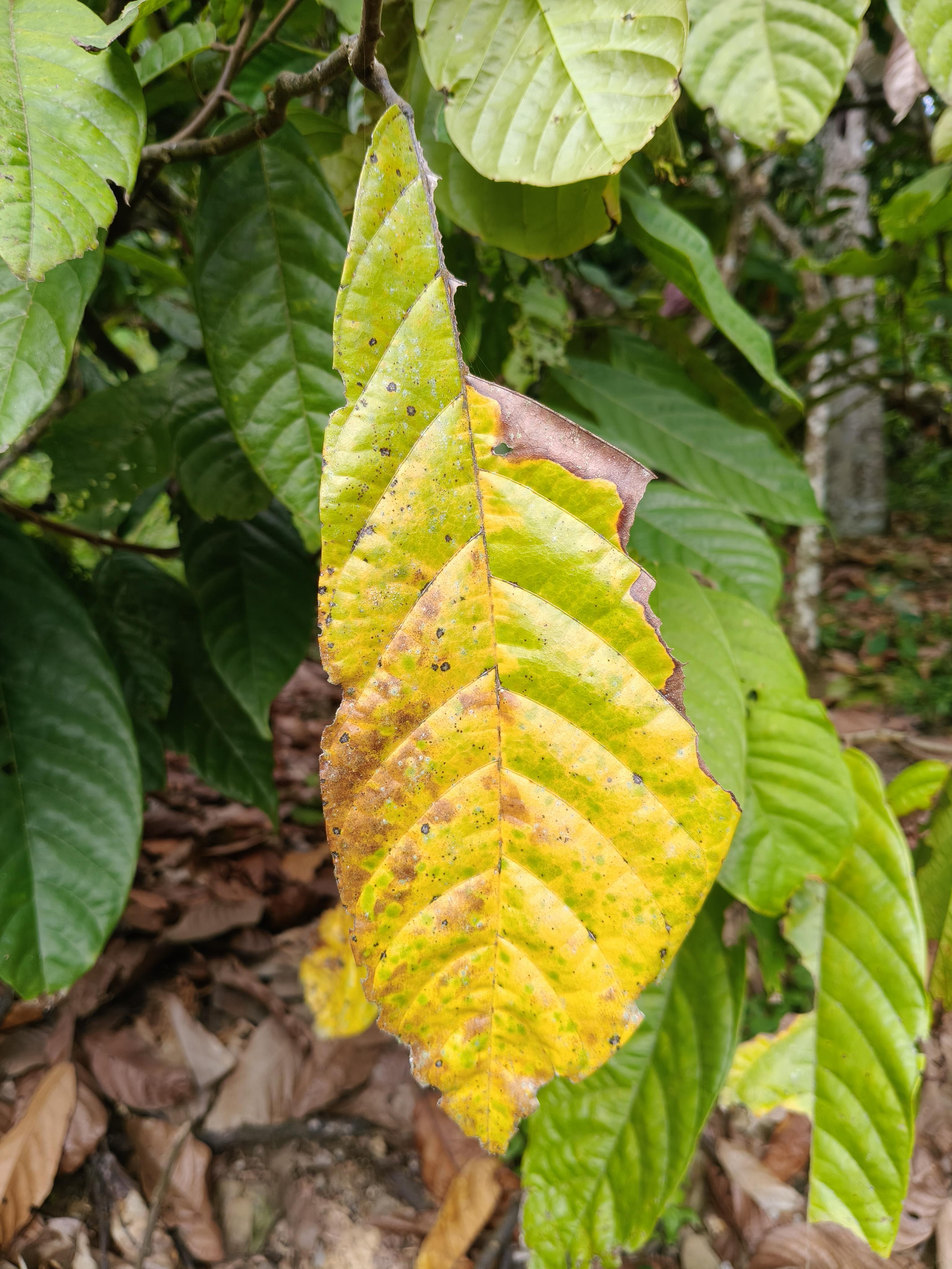deficiencia_potasio: (325, 93, 731, 1128)
